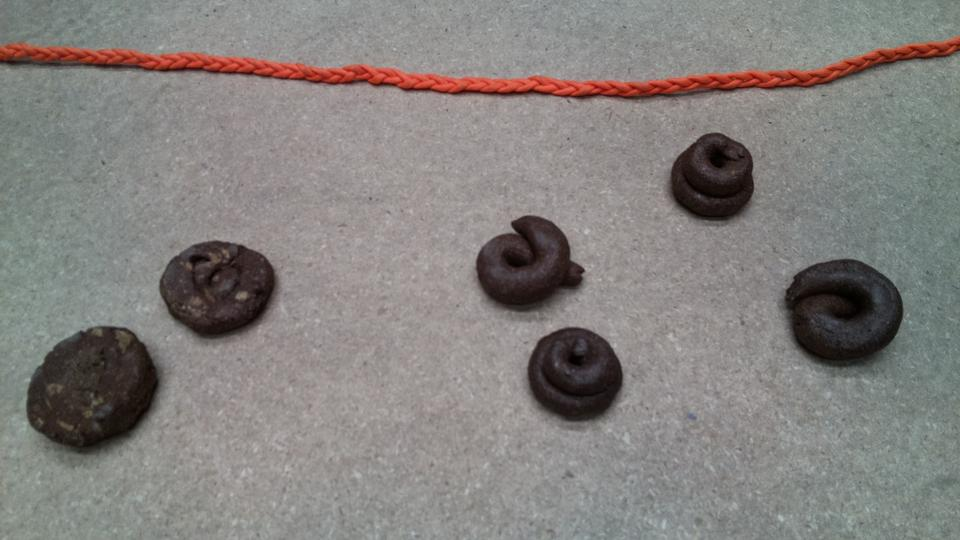poop: (22, 321, 163, 455), (781, 255, 906, 370), (156, 237, 278, 341), (473, 211, 590, 312), (524, 323, 626, 426), (667, 129, 758, 224)
rope: (1, 33, 960, 102)
